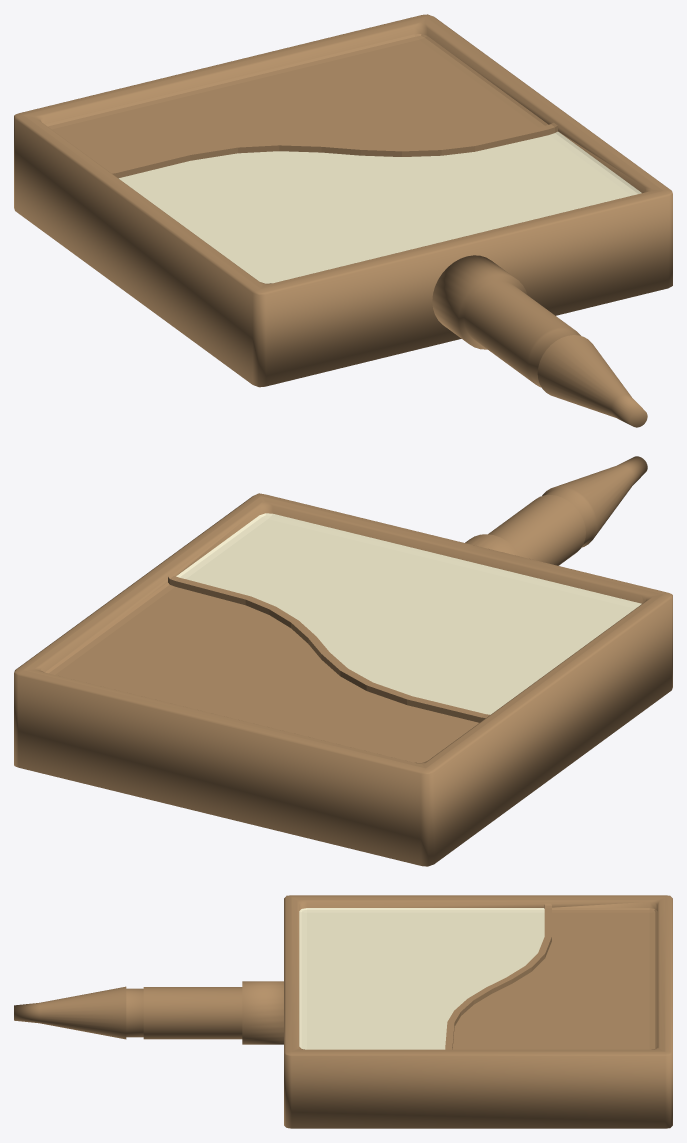
File: router_tier5.fbx
The picture shows the model from 3 angles, top to bottom: view 1: azimuth 30°, elevation 25°; view 2: azimuth 150°, elevation 25°; view 3: azimuth 270°, elevation 25°; orthographic projection. The views are drawn at different scales.
Parts seen in each view (by area): view 1: Cube, Sphere.002; view 2: Cube, Sphere.002; view 3: Cube, Sphere.002.
Part boxes in pixels (left/top/right/bottom): Cube: left=14, top=14, right=672, bottom=387; Sphere.002: left=432, top=255, right=647, bottom=427; Cube: left=14, top=493, right=672, bottom=866; Sphere.002: left=465, top=456, right=647, bottom=565; Cube: left=284, top=895, right=672, bottom=1128; Sphere.002: left=14, top=981, right=283, bottom=1044.
Size of the model in its own units: 0.3911 by 0.0854 by 0.6774.
